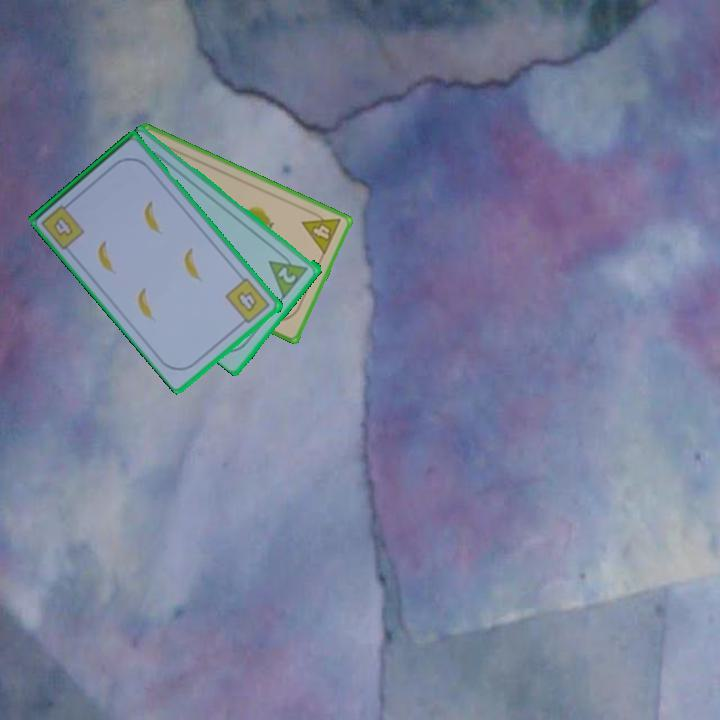2p: (265, 247, 311, 300)
4b: (222, 275, 274, 329), (50, 213, 76, 239)
4p: (298, 206, 344, 258)
